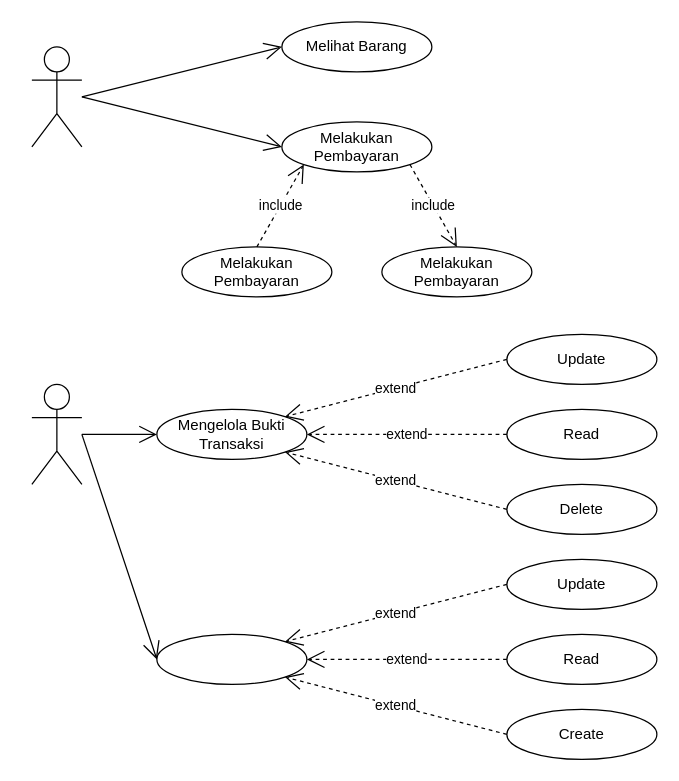
Some shapes in this 679 by 781 pixel diagram are drawn without their labels. The shapes that lost their labels are listed below. From the top down, each one's centre as x and y in pixels, then its label:
[56,96]: Pelanggan
[56,433]: Admin
[231,658]: Mengelola Barang
